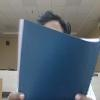notebook: (16, 17, 99, 99)
